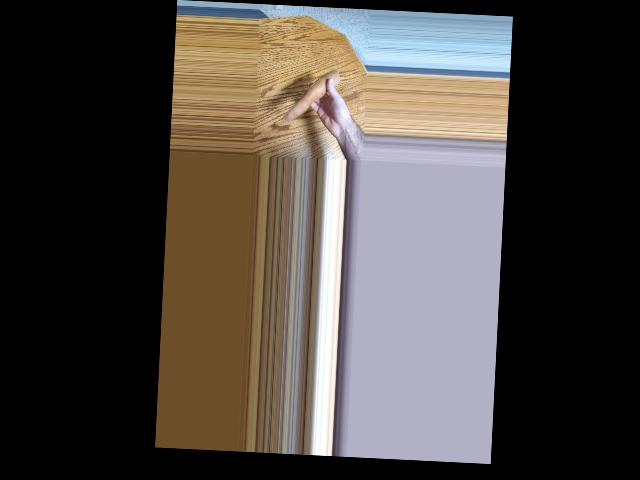sweet_potato: (284, 69, 341, 123)
